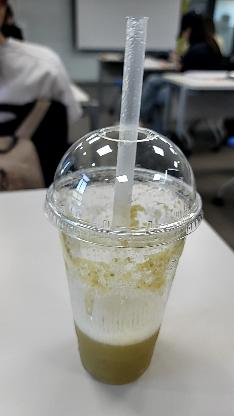Plastic Cup: (42, 119, 208, 396), (44, 124, 210, 250)
